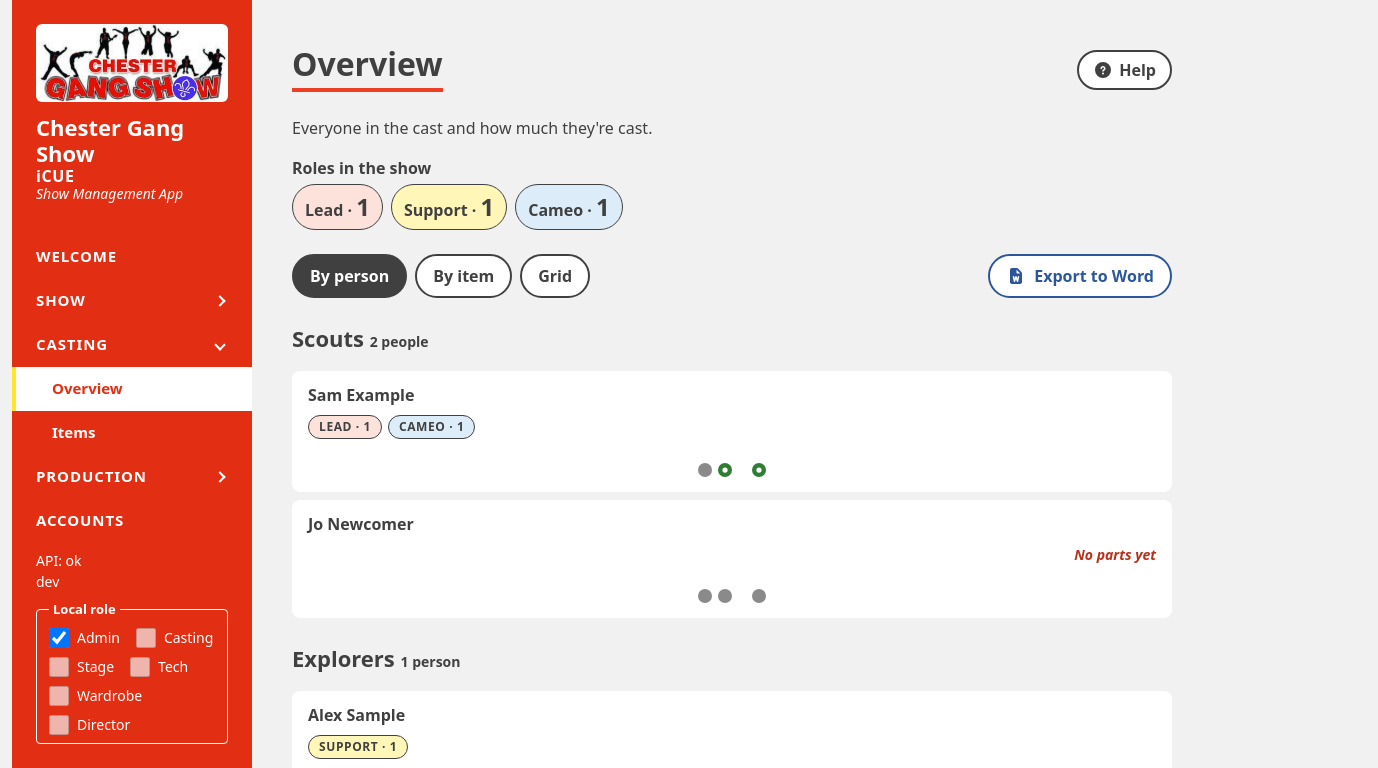
Test: Casting grid on the Overview › shows a lead as one lead-coloured dot with the letter L
Click the button "Grid": [555, 276] box [520,254,590,298]
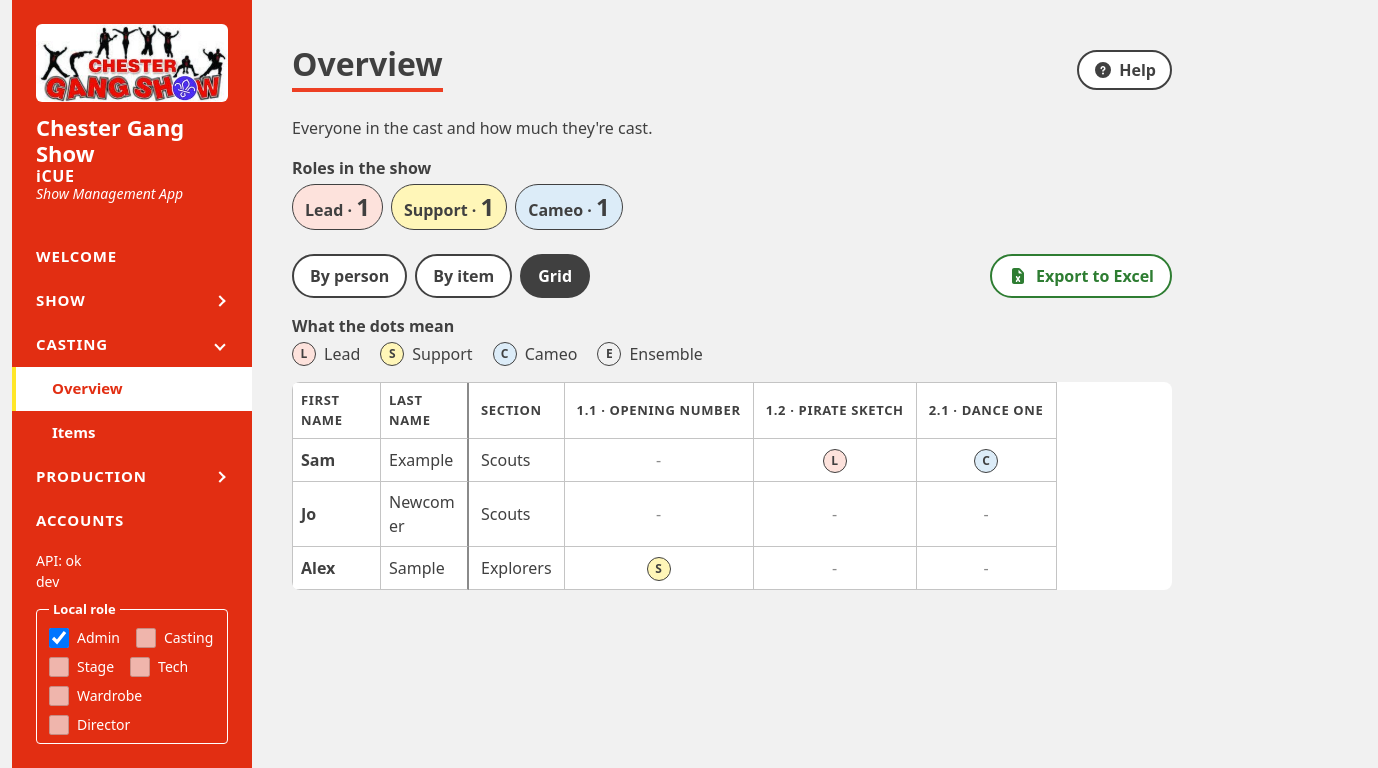
Expected: the text with test id "grid-dot" in the row of "Example" reads "L", [831,452,838,469]
